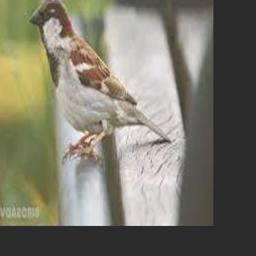Sparrow: (30, 0, 172, 165)
